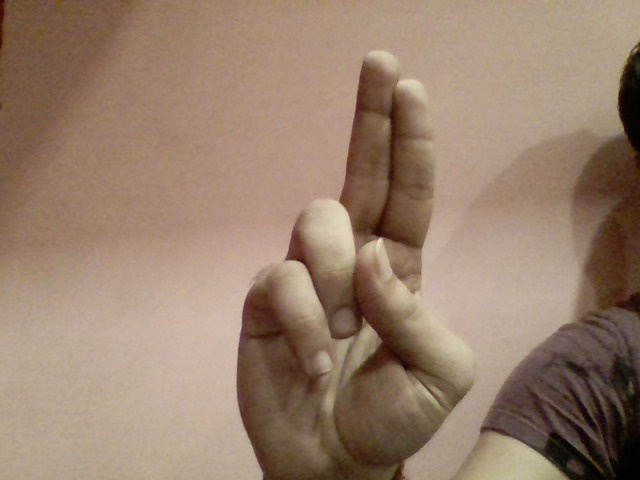u: (221, 38, 486, 473)
